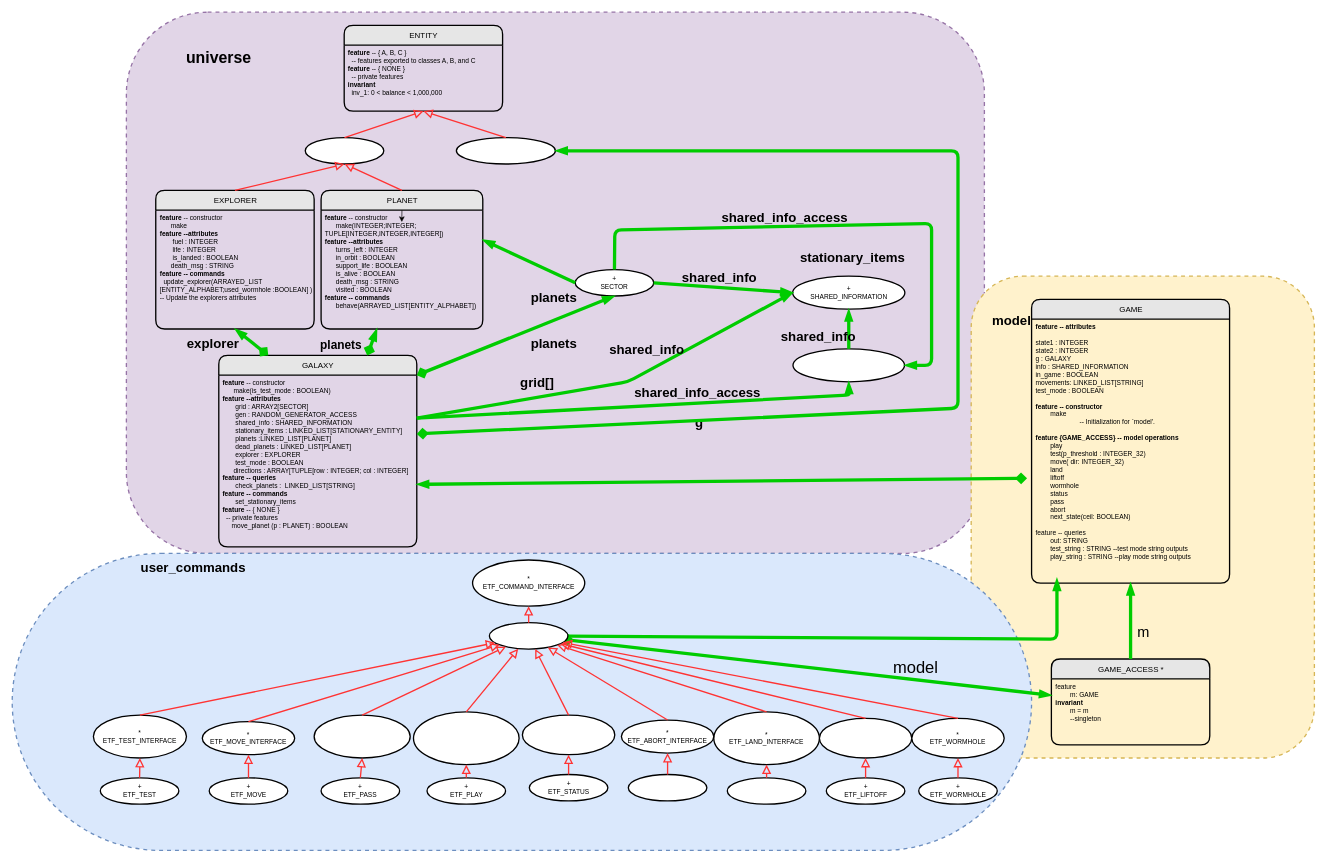
This 1326x862 diagram has some shape labels left out. Each missing label, with the centre of its shape:
"* ETF_LIFTOFF" goes at (x=865, y=737).
"* ETF_PASS_INTERFACE" goes at (x=362, y=736).
"* ETF_PLAY_INTERFACE" goes at (x=465, y=738).
"* ETF_STATUS" goes at (x=568, y=734).
"+ ETF_ABORT" goes at (x=667, y=787).
"+ ETF_COMMAND" goes at (x=528, y=635).
"+ ETF_LAND" goes at (x=766, y=791).
"+ MOVABLE_ENTITY" goes at (x=344, y=150).
"+ SHARED_INFORMATION_ACCESS" goes at (x=848, y=365).
"+ STATIONARY_ENTITY" goes at (x=505, y=150).
